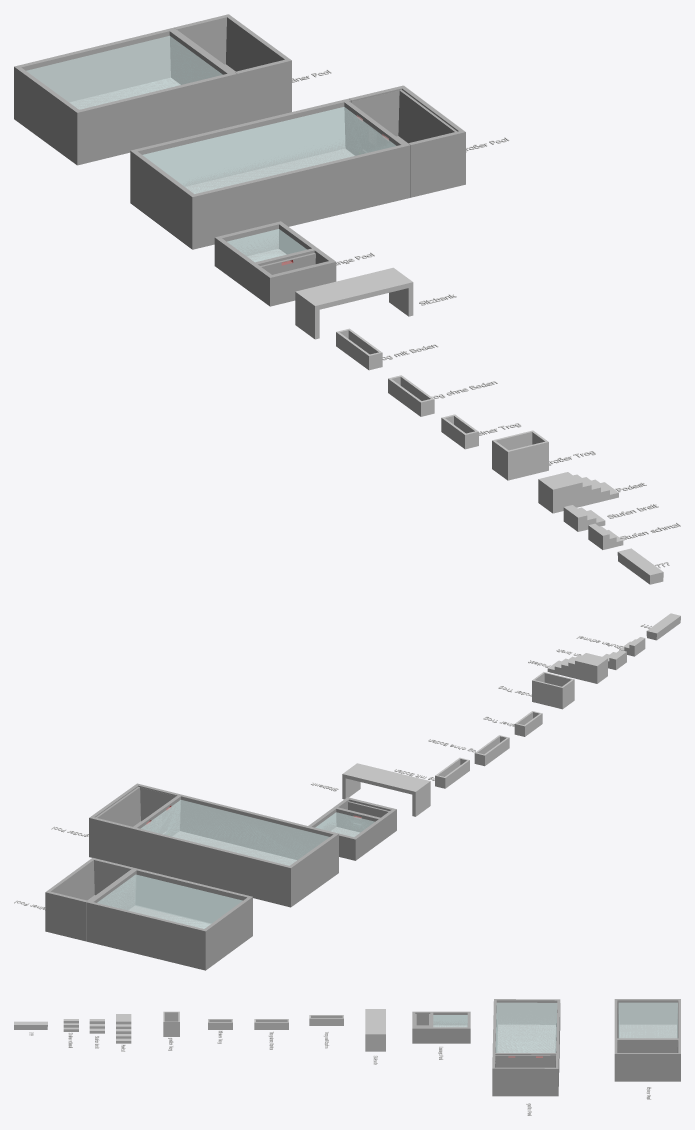
The model's file is produkte.glb.
3 renders of one model, top to bottom at view 1: azimuth 30°, elevation 25°; view 2: azimuth 150°, elevation 25°; view 3: azimuth 270°, elevation 25°, orthographic. The views are drawn at different scales.
Visible parts, largest first — view 1: Geom3D_1P6QfeiQb9Yh1O02vmt5t__FT-Fundament (1), Geom3D_3Nz_ZyvJ1D7RqpUSSeIEJv_FT-Fundament (1), Geom3D_3sF47bNRn4JedklrZKBKRm_FT-Fundament (90) (×2), Geom3D_09E8Vn5nr4nhpHKmo2P4za_FT-Fundament (1), Geom3D_2bXffUfAX8cBsxQ20zHmVa_FT-Fundament (86), Geom3D_3Qe9dFM0TFhPqNWVNLMQJV_FT-Fundament (86), Geom3D_3$iGT$pPT9tOmZ_1QeSR8n_FT-Fundament (116), Geom3D_2_oQ6Xoo13_vxpoK2kBhDd_FT-Fundament (81), Geom3D_3Df7FtoFb9VOXcnzceCNmU_FT-Fundament (68), Geom3D_22gQXBFPnE_RJYnDjRSFTf_FT-Fundament (115), Geom3D_1ilbto8i9AbP4v5a3xjU6Y_FT-Fundament (81), Geom3D_1sHbyjeDfCKOgJneGYPhOZ_FT-Fundament (81) (+2 smaller); view 2: Geom3D_1P6QfeiQb9Yh1O02vmt5t__FT-Fundament (1), Geom3D_3Nz_ZyvJ1D7RqpUSSeIEJv_FT-Fundament (1), Geom3D_3sF47bNRn4JedklrZKBKRm_FT-Fundament (90) (×2), Geom3D_2bXffUfAX8cBsxQ20zHmVa_FT-Fundament (86), Geom3D_3Qe9dFM0TFhPqNWVNLMQJV_FT-Fundament (86), Geom3D_09E8Vn5nr4nhpHKmo2P4za_FT-Fundament (1), Geom3D_3$iGT$pPT9tOmZ_1QeSR8n_FT-Fundament (116), Geom3D_2_oQ6Xoo13_vxpoK2kBhDd_FT-Fundament (81), Geom3D_3Df7FtoFb9VOXcnzceCNmU_FT-Fundament (68), Geom3D_22gQXBFPnE_RJYnDjRSFTf_FT-Fundament (115), Geom3D_1sHbyjeDfCKOgJneGYPhOZ_FT-Fundament (81), Geom3D_1ilbto8i9AbP4v5a3xjU6Y_FT-Fundament (81); view 3: Geom3D_3sF47bNRn4JedklrZKBKRm_FT-Fundament (90) (×2), Geom3D_1P6QfeiQb9Yh1O02vmt5t__FT-Fundament (1), Geom3D_3Nz_ZyvJ1D7RqpUSSeIEJv_FT-Fundament (1), Geom3D_2bXffUfAX8cBsxQ20zHmVa_FT-Fundament (86), Geom3D_3Qe9dFM0TFhPqNWVNLMQJV_FT-Fundament (86), Geom3D_09E8Vn5nr4nhpHKmo2P4za_FT-Fundament (1), Geom3D_3$iGT$pPT9tOmZ_1QeSR8n_FT-Fundament (116), Geom3D_3Df7FtoFb9VOXcnzceCNmU_FT-Fundament (68), Geom3D_22gQXBFPnE_RJYnDjRSFTf_FT-Fundament (115), Geom3D_2_oQ6Xoo13_vxpoK2kBhDd_FT-Fundament (81), Geom3D_1ilbto8i9AbP4v5a3xjU6Y_FT-Fundament (81), Geom3D_1sHbyjeDfCKOgJneGYPhOZ_FT-Fundament (81) (+4 smaller).
Boxes of the visible parts, <box> form: Geom3D_1P6QfeiQb9Yh1O02vmt5t__FT-Fundament (1): <box>130,98,410,249</box>; Geom3D_3Nz_ZyvJ1D7RqpUSSeIEJv_FT-Fundament (1): <box>14,27,237,165</box>; Geom3D_3sF47bNRn4JedklrZKBKRm_FT-Fundament (90) (×2): <box>26,36,396,193</box>; Geom3D_09E8Vn5nr4nhpHKmo2P4za_FT-Fundament (1): <box>214,221,336,306</box>; Geom3D_2bXffUfAX8cBsxQ20zHmVa_FT-Fundament (86): <box>349,85,465,197</box>; Geom3D_3Qe9dFM0TFhPqNWVNLMQJV_FT-Fundament (86): <box>174,14,291,124</box>; Geom3D_3$iGT$pPT9tOmZ_1QeSR8n_FT-Fundament (116): <box>295,267,413,339</box>; Geom3D_2_oQ6Xoo13_vxpoK2kBhDd_FT-Fundament (81): <box>492,430,548,480</box>; Geom3D_3Df7FtoFb9VOXcnzceCNmU_FT-Fundament (68): <box>538,472,618,513</box>; Geom3D_22gQXBFPnE_RJYnDjRSFTf_FT-Fundament (115): <box>227,229,306,262</box>; Geom3D_1ilbto8i9AbP4v5a3xjU6Y_FT-Fundament (81): <box>336,328,382,370</box>; Geom3D_1sHbyjeDfCKOgJneGYPhOZ_FT-Fundament (81): <box>388,375,434,416</box>; Geom3D_1P6QfeiQb9Yh1O02vmt5t__FT-Fundament (1): <box>129,793,338,907</box>; Geom3D_3Nz_ZyvJ1D7RqpUSSeIEJv_FT-Fundament (1): <box>86,867,252,970</box>; Geom3D_3sF47bNRn4JedklrZKBKRm_FT-Fundament (90) (×2): <box>97,800,329,928</box>; Geom3D_2bXffUfAX8cBsxQ20zHmVa_FT-Fundament (86): <box>89,783,177,866</box>; Geom3D_3Qe9dFM0TFhPqNWVNLMQJV_FT-Fundament (86): <box>45,857,132,941</box>; Geom3D_09E8Vn5nr4nhpHKmo2P4za_FT-Fundament (1): <box>308,797,396,860</box>; Geom3D_3$iGT$pPT9tOmZ_1QeSR8n_FT-Fundament (116): <box>342,763,430,816</box>; Geom3D_2_oQ6Xoo13_vxpoK2kBhDd_FT-Fundament (81): <box>532,672,574,709</box>; Geom3D_3Df7FtoFb9VOXcnzceCNmU_FT-Fundament (68): <box>547,653,607,683</box>; Geom3D_22gQXBFPnE_RJYnDjRSFTf_FT-Fundament (115): <box>315,812,374,836</box>; Geom3D_1sHbyjeDfCKOgJneGYPhOZ_FT-Fundament (81): <box>474,735,509,766</box>; Geom3D_1ilbto8i9AbP4v5a3xjU6Y_FT-Fundament (81): <box>435,757,469,788</box>; Geom3D_3sF47bNRn4JedklrZKBKRm_FT-Fundament (90) (×2): <box>495,1002,677,1052</box>; Geom3D_1P6QfeiQb9Yh1O02vmt5t__FT-Fundament (1): <box>492,999,560,1072</box>; Geom3D_3Nz_ZyvJ1D7RqpUSSeIEJv_FT-Fundament (1): <box>614,999,680,1052</box>; Geom3D_2bXffUfAX8cBsxQ20zHmVa_FT-Fundament (86): <box>492,1054,558,1096</box>; Geom3D_3Qe9dFM0TFhPqNWVNLMQJV_FT-Fundament (86): <box>614,1040,680,1081</box>; Geom3D_09E8Vn5nr4nhpHKmo2P4za_FT-Fundament (1): <box>412,1011,470,1043</box>; Geom3D_3$iGT$pPT9tOmZ_1QeSR8n_FT-Fundament (116): <box>365,1009,385,1051</box>; Geom3D_3Df7FtoFb9VOXcnzceCNmU_FT-Fundament (68): <box>116,1014,131,1043</box>; Geom3D_22gQXBFPnE_RJYnDjRSFTf_FT-Fundament (115): <box>433,1015,467,1027</box>; Geom3D_2_oQ6Xoo13_vxpoK2kBhDd_FT-Fundament (81): <box>163,1011,179,1036</box>; Geom3D_1ilbto8i9AbP4v5a3xjU6Y_FT-Fundament (81): <box>309,1015,343,1025</box>; Geom3D_1sHbyjeDfCKOgJneGYPhOZ_FT-Fundament (81): <box>254,1019,288,1029</box>.
Size of the model in its own units: 12.23 by 1.76 by 38.59.
